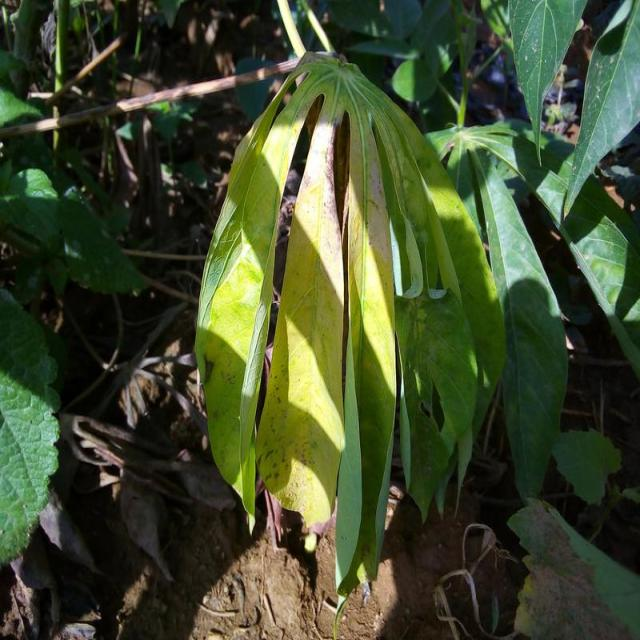cassava leaf: (193, 48, 506, 617)
